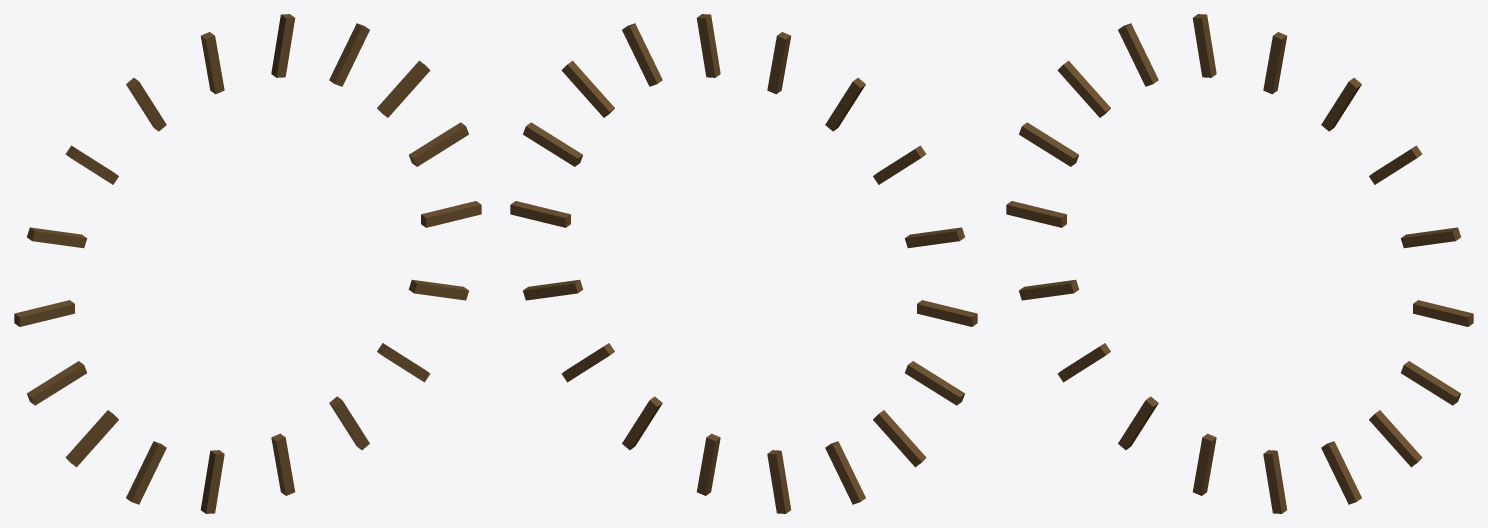
File: rope_coil_r0_01.glb
The picture shows the model from 3 angles, left to right: view 1: azimuth 30°, elevation 25°; view 2: azimuth 150°, elevation 25°; view 3: azimuth 330°, elevation 25°; orthographic projection.
Parts seen in each view (by area): view 1: rope3, rope12, rope2, rope11, rope1, rope10, rope4, rope13, rope0, rope9, rope5, rope14 (+6 smaller); view 2: rope3, rope12, rope2, rope11, rope1, rope10, rope4, rope13, rope0, rope9, rope5, rope14 (+6 smaller); view 3: rope6, rope15, rope7, rope16, rope8, rope17, rope5, rope14, rope0, rope9, rope4, rope13 (+6 smaller).
Boxes of the visible parts, x1=… form: rope3: x1=329, y1=23, x2=369, y2=86; rope12: x1=126, y1=441, x2=166, y2=504; rope2: x1=377, y1=60, x2=430, y2=117; rope11: x1=65, y1=410, x2=118, y2=467; rope1: x1=409, y1=122, x2=468, y2=166; rope10: x1=27, y1=361, x2=86, y2=405; rope4: x1=271, y1=14, x2=295, y2=77; rope13: x1=200, y1=450, x2=224, y2=513; rope0: x1=421, y1=201, x2=481, y2=227; rope9: x1=14, y1=300, x2=74, y2=326; rope5: x1=200, y1=32, x2=224, y2=94; rope14: x1=271, y1=433, x2=295, y2=495; rope3: x1=622, y1=23, x2=662, y2=86; rope12: x1=825, y1=441, x2=865, y2=504; rope2: x1=561, y1=60, x2=614, y2=117; rope11: x1=873, y1=410, x2=926, y2=467; rope1: x1=523, y1=122, x2=582, y2=166; rope10: x1=905, y1=361, x2=964, y2=405; rope4: x1=696, y1=14, x2=720, y2=77; rope13: x1=767, y1=450, x2=791, y2=513; rope0: x1=510, y1=201, x2=570, y2=227; rope9: x1=917, y1=300, x2=977, y2=326; rope5: x1=767, y1=32, x2=791, y2=94; rope14: x1=696, y1=433, x2=720, y2=495; rope6: x1=1118, y1=23, x2=1158, y2=86; rope15: x1=1321, y1=441, x2=1361, y2=504; rope7: x1=1057, y1=60, x2=1110, y2=117; rope16: x1=1369, y1=410, x2=1422, y2=467; rope8: x1=1019, y1=122, x2=1078, y2=166; rope17: x1=1401, y1=361, x2=1460, y2=405; rope5: x1=1192, y1=14, x2=1216, y2=77; rope14: x1=1263, y1=450, x2=1287, y2=513; rope0: x1=1413, y1=300, x2=1473, y2=326; rope9: x1=1006, y1=201, x2=1066, y2=227; rope4: x1=1263, y1=32, x2=1287, y2=94; rope13: x1=1192, y1=433, x2=1216, y2=495.
Bounding box in the file's own units: 1.25 × 1.24 × 0.025.
